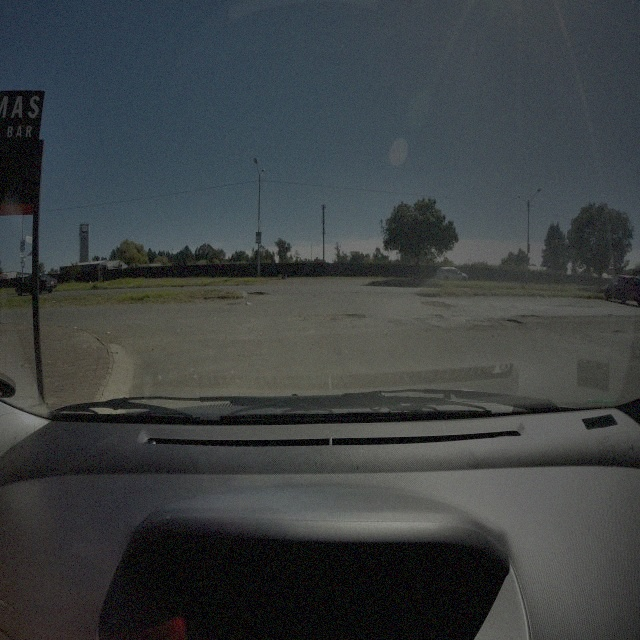pothole: (422, 297, 456, 310), (334, 311, 366, 321), (250, 289, 269, 299), (505, 317, 524, 327), (431, 314, 446, 322)
